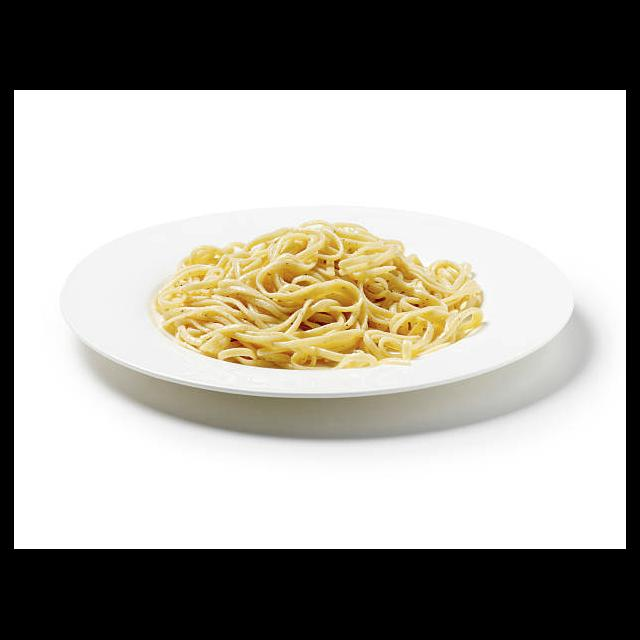noodles: (153, 218, 485, 372)
